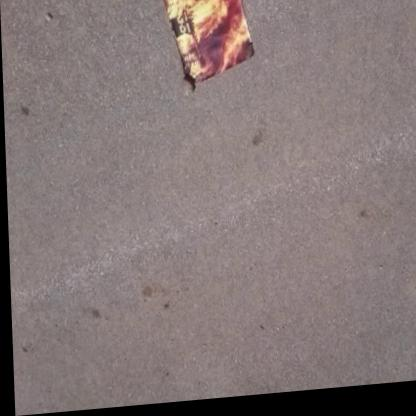fire-poster: (160, 0, 257, 99)
